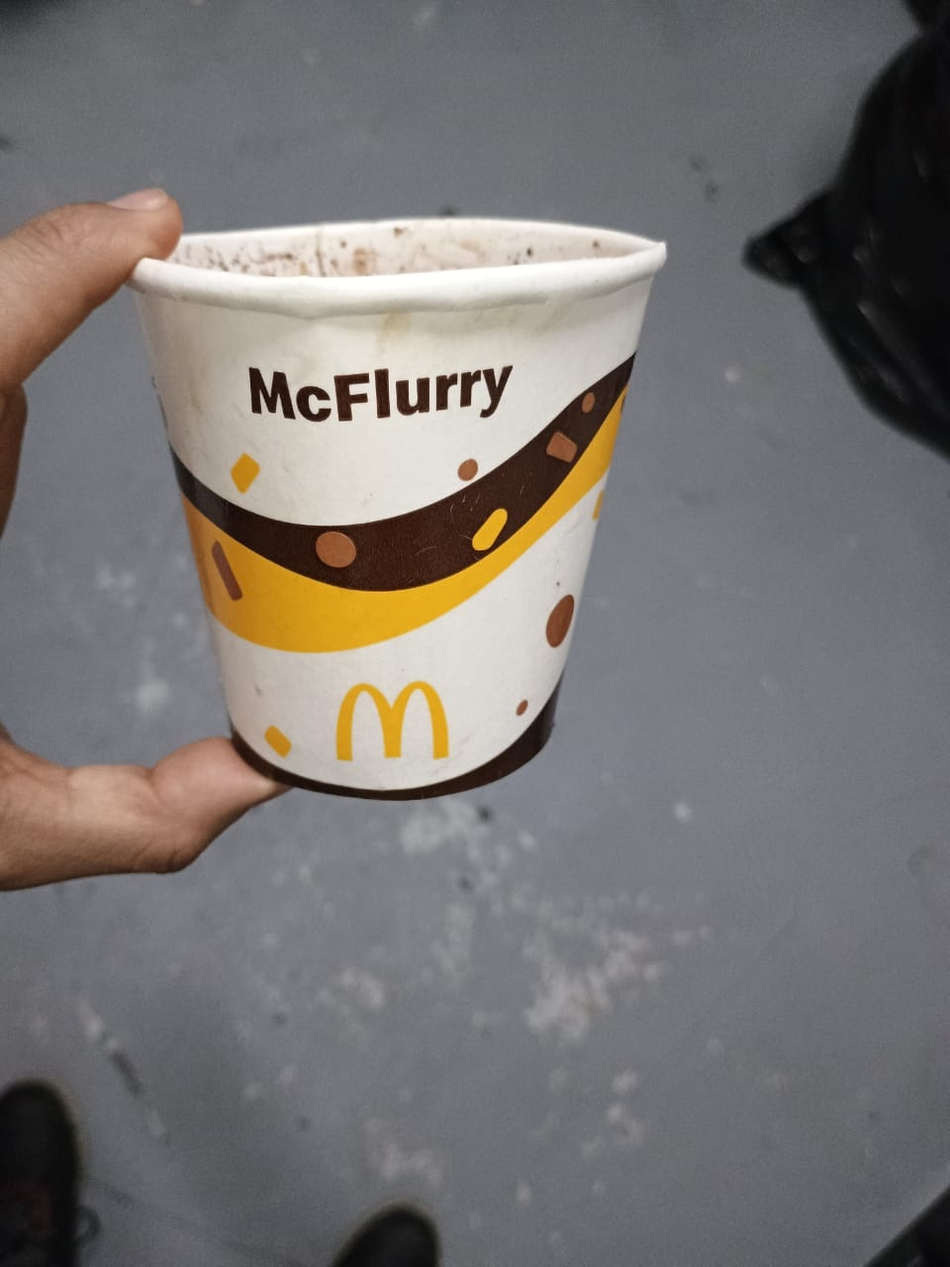Carton: (131, 217, 666, 802)
